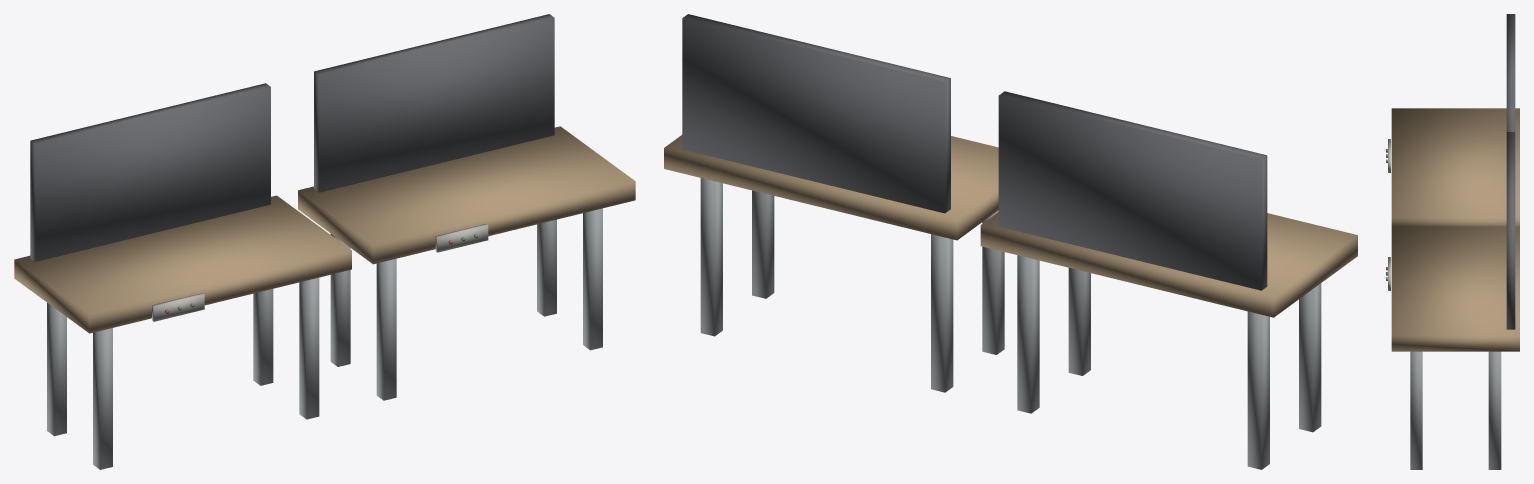
File: basement_workbench__cluster.glb
The picture shows the model from 3 angles, left to right: view 1: azimuth 30°, elevation 25°; view 2: azimuth 150°, elevation 25°; view 3: azimuth 270°, elevation 25°; orthographic projection. The views are drawn at different scales.
Visible parts, largest first — view 1: world; view 2: world; view 3: world.
Boxes of the visible parts, <box> form: world: <box>14,14,635,469</box>; world: <box>664,14,1357,469</box>; world: <box>1386,14,1519,469</box>.
Size of the model in its own units: 3.02 by 1.51 by 0.751.
